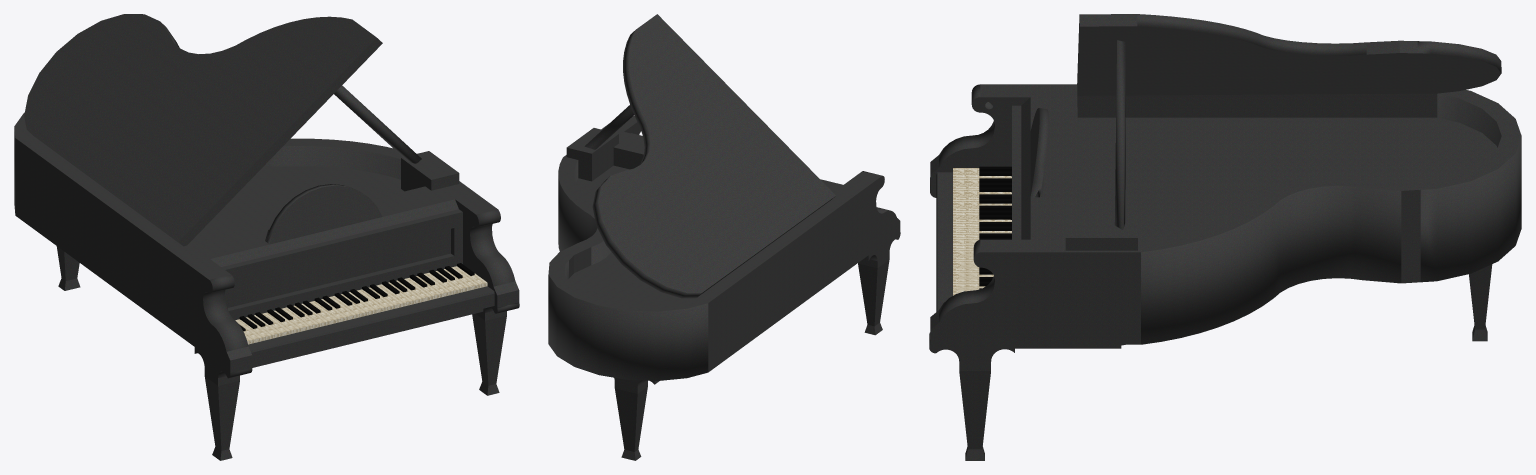
File: piano.obj
The picture shows the model from 3 angles, left to right: view 1: azimuth 30°, elevation 25°; view 2: azimuth 150°, elevation 25°; view 3: azimuth 270°, elevation 25°; orthographic projection. The views are drawn at different scales.
Visible parts, largest first — view 1: mesh16.002_mesh16-geometry, mesh2.002_mesh2-geometry, mesh2.001_mesh2-geometry.002; view 2: mesh16.002_mesh16-geometry; view 3: mesh16.002_mesh16-geometry, mesh2.002_mesh2-geometry, mesh2.001_mesh2-geometry.002.
Boxes of the visible parts, <box> form: mesh16.002_mesh16-geometry: <box>14,14,519,460</box>; mesh2.002_mesh2-geometry: <box>235,266,487,344</box>; mesh2.001_mesh2-geometry.002: <box>239,263,474,331</box>; mesh16.002_mesh16-geometry: <box>548,14,900,460</box>; mesh16.002_mesh16-geometry: <box>929,14,1521,460</box>; mesh2.002_mesh2-geometry: <box>953,168,1011,295</box>; mesh2.001_mesh2-geometry.002: <box>979,166,1011,289</box>.
Size of the model in its own units: 4.41 by 4.95 by 6.58.
